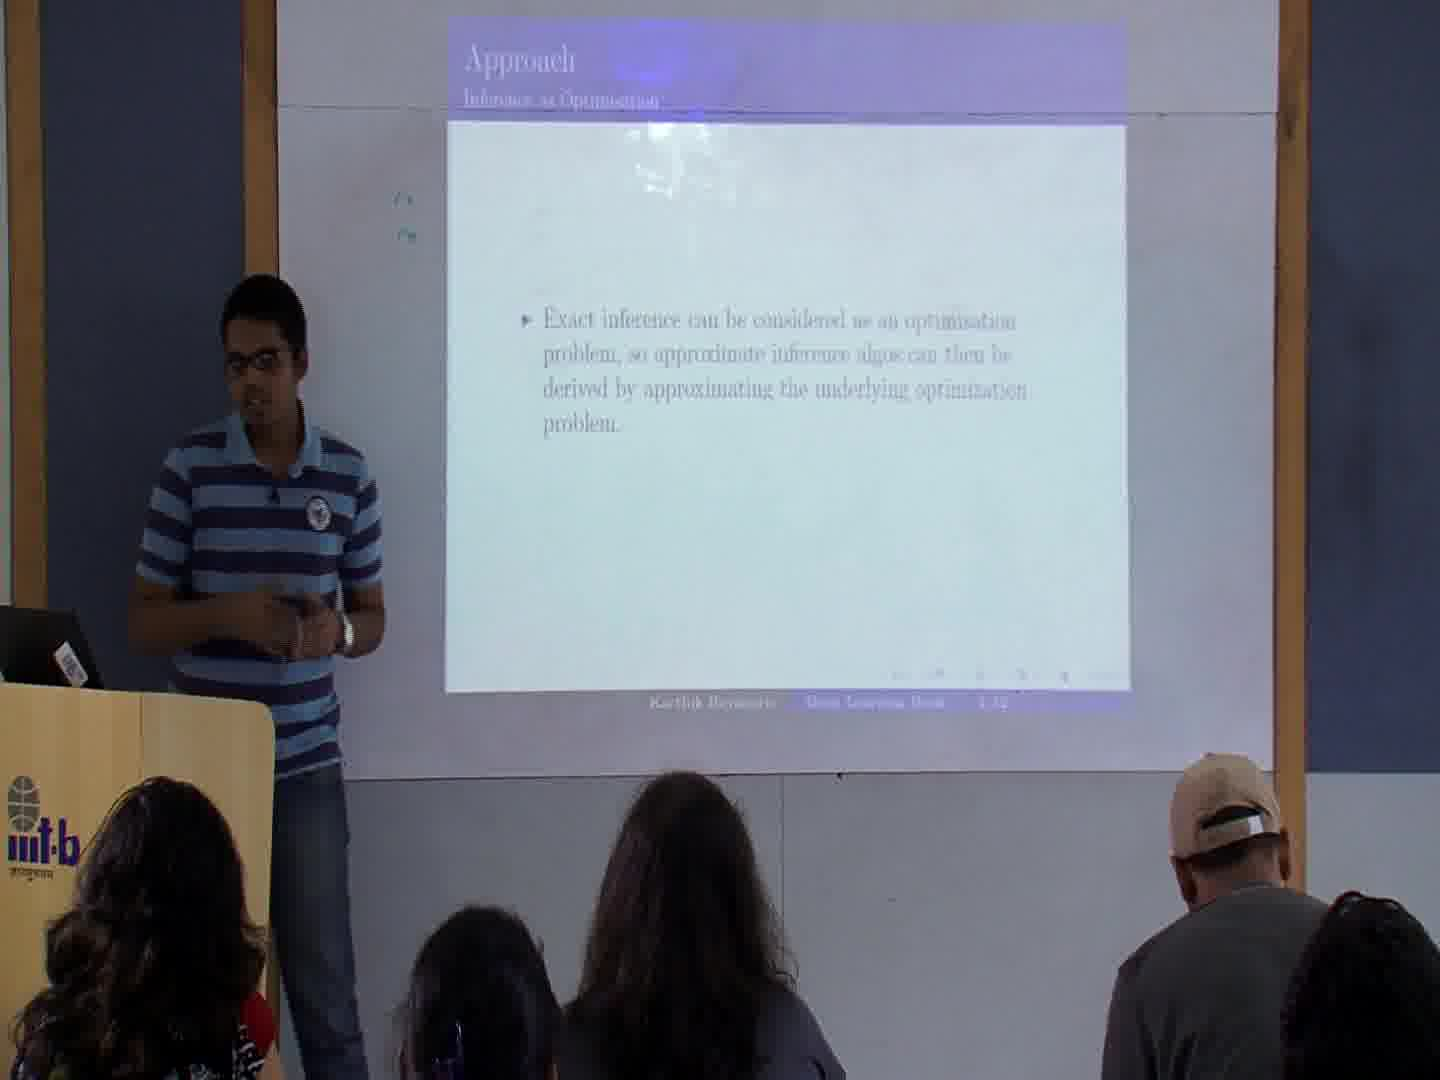slide: (443, 19, 1130, 711)
